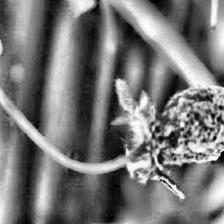Gray Mold: (111, 85, 224, 200)
